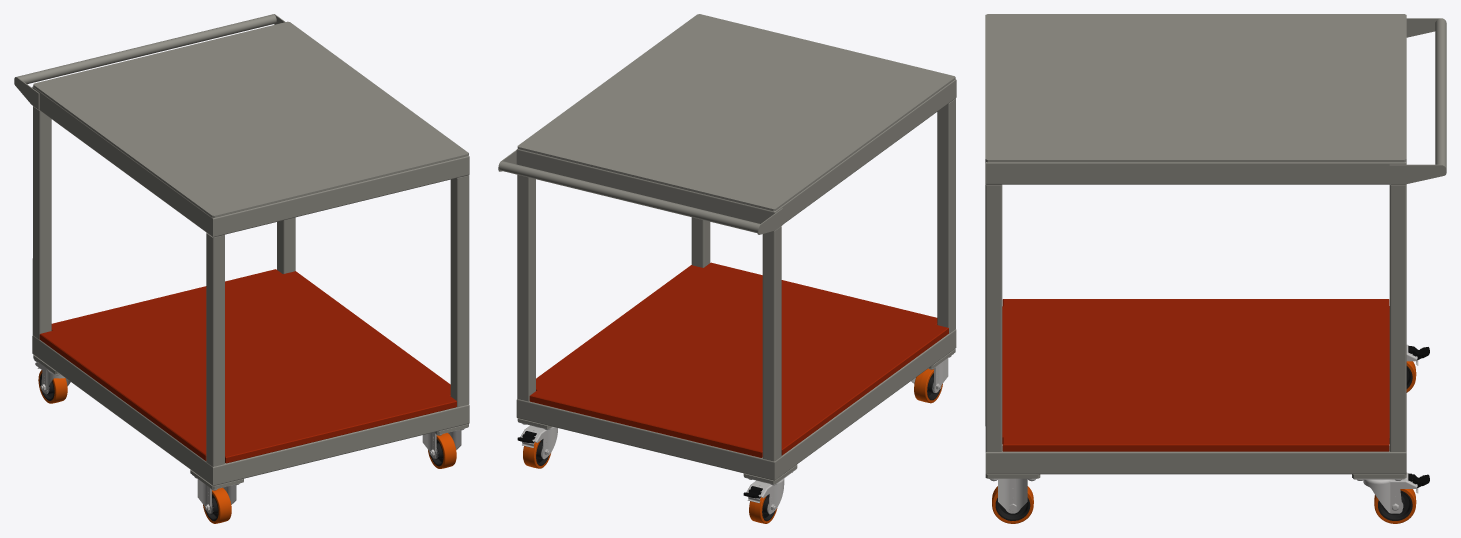
Rendered from Cart.glb.
The picture shows the model from 3 angles, left to right: view 1: azimuth 30°, elevation 25°; view 2: azimuth 150°, elevation 25°; view 3: azimuth 270°, elevation 25°; orthographic projection. The views are drawn at different scales.
Visible parts, largest first — view 1: VA2A - EBM - 06, VA2A - EBM - 07, VA2A - EBM - 006, VA2A - EBM - 02, VA2A - EBM - 04, VA2A - EBM - 010, VA2A - EBM - 011, VA2A - EBM - 004, VA2A - EBM - 01, VA2A - EBM - 08, null_null, VA2A - EBM - 012 (+1 smaller); view 2: VA2A - EBM - 06, VA2A - EBM - 07, VA2A - EBM - 007, VA2A - EBM - 011, VA2A - EBM - 010, VA2A - EBM - 012, VA2A - EBM - 003, VA2A - EBM - 004, VA2A - EBM - 01, VA2A - EBM - 08, null_null, VA2A - EBM - 04 (+2 smaller); view 3: VA2A - EBM - 06, VA2A - EBM - 07, VA2A - EBM - 005, VA2A - EBM - 002, VA2A - EBM - 012, VA2A - EBM - 04, VA2A - EBM - 08, rodizio_giratorio_gl_414_pe_g, VA2A - EBM - 09, null_null_005.
Boxes of the visible parts, x1=… form: VA2A - EBM - 06: x1=33, y1=21, x2=468, y2=217; VA2A - EBM - 07: x1=39, y1=269, x2=456, y2=463; VA2A - EBM - 006: x1=213, y1=404, x2=469, y2=485; VA2A - EBM - 02: x1=213, y1=156, x2=469, y2=237; VA2A - EBM - 04: x1=450, y1=175, x2=469, y2=407; VA2A - EBM - 010: x1=206, y1=232, x2=224, y2=466; VA2A - EBM - 011: x1=32, y1=106, x2=51, y2=339; VA2A - EBM - 004: x1=32, y1=335, x2=212, y2=485; VA2A - EBM - 01: x1=32, y1=86, x2=213, y2=236; VA2A - EBM - 08: x1=17, y1=14, x2=276, y2=84; null_null: x1=192, y1=475, x2=236, y2=523; VA2A - EBM - 012: x1=277, y1=217, x2=295, y2=273; VA2A - EBM - 06: x1=517, y1=14, x2=955, y2=211; VA2A - EBM - 07: x1=529, y1=262, x2=948, y2=457; VA2A - EBM - 007: x1=516, y1=399, x2=774, y2=480; VA2A - EBM - 011: x1=762, y1=226, x2=781, y2=461; VA2A - EBM - 010: x1=937, y1=98, x2=955, y2=333; VA2A - EBM - 012: x1=517, y1=175, x2=535, y2=401; VA2A - EBM - 003: x1=516, y1=149, x2=774, y2=223; VA2A - EBM - 004: x1=774, y1=329, x2=956, y2=480; VA2A - EBM - 01: x1=774, y1=79, x2=956, y2=224; VA2A - EBM - 08: x1=499, y1=161, x2=759, y2=233; null_null: x1=911, y1=354, x2=953, y2=403; VA2A - EBM - 04: x1=691, y1=217, x2=710, y2=267; VA2A - EBM - 06: x1=985, y1=14, x2=1406, y2=162; VA2A - EBM - 07: x1=1002, y1=299, x2=1389, y2=451; VA2A - EBM - 005: x1=985, y1=446, x2=1406, y2=474; VA2A - EBM - 002: x1=985, y1=162, x2=1406, y2=184; VA2A - EBM - 012: x1=1389, y1=184, x2=1406, y2=451; VA2A - EBM - 04: x1=985, y1=184, x2=1002, y2=451; VA2A - EBM - 08: x1=1435, y1=18, x2=1446, y2=169; rodizio_giratorio_gl_414_pe_g: x1=1353, y1=472, x2=1429, y2=513; VA2A - EBM - 09: x1=1389, y1=164, x2=1446, y2=184; null_null_005: x1=989, y1=478, x2=1036, y2=513.
Bounding box in the file's own units: 0.826 × 0.9702 × 1.1.
